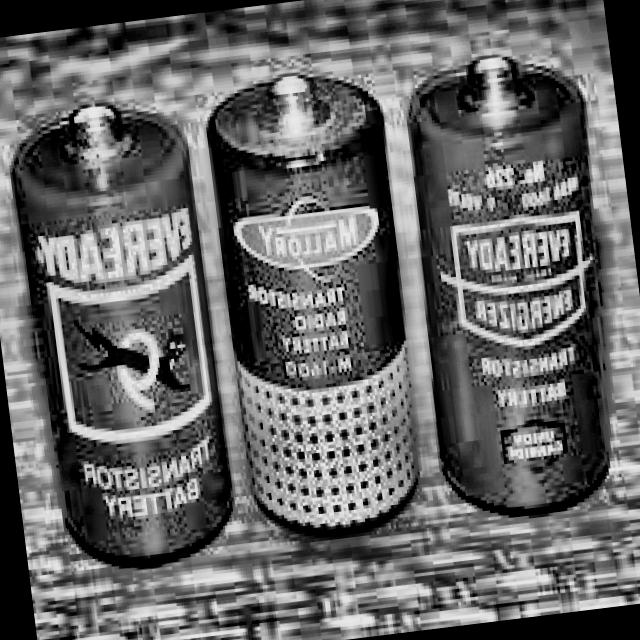Battery: (201, 66, 429, 532), (390, 55, 624, 509), (13, 96, 235, 565)
